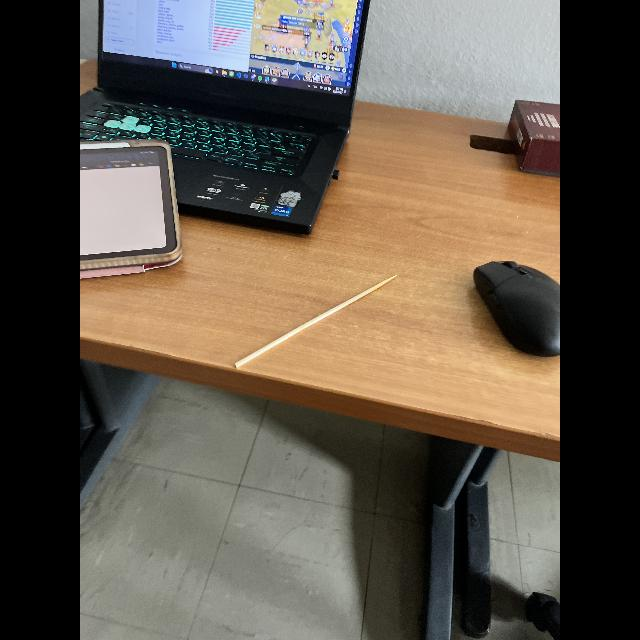stick: (222, 266, 408, 384)
